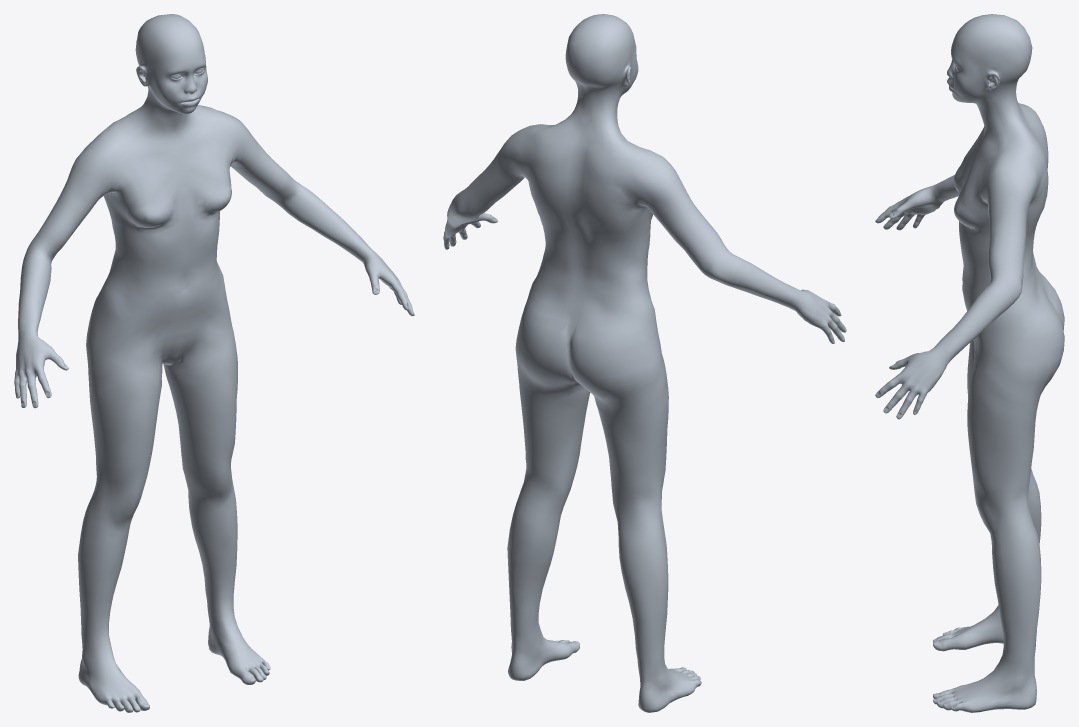
Rendered from female-original.glb.
The picture shows the model from 3 angles, left to right: view 1: azimuth 30°, elevation 25°; view 2: azimuth 150°, elevation 25°; view 3: azimuth 270°, elevation 25°; orthographic projection.
Parts seen in each view (by area): view 1: female-native; view 2: female-native; view 3: female-native.
Part boxes in pixels (x1,y1,x2,y2): female-native: [14, 14, 414, 712]; female-native: [443, 14, 846, 712]; female-native: [875, 14, 1064, 712].
Size of the model in its own units: 1.1 by 1.77 by 0.4614.
